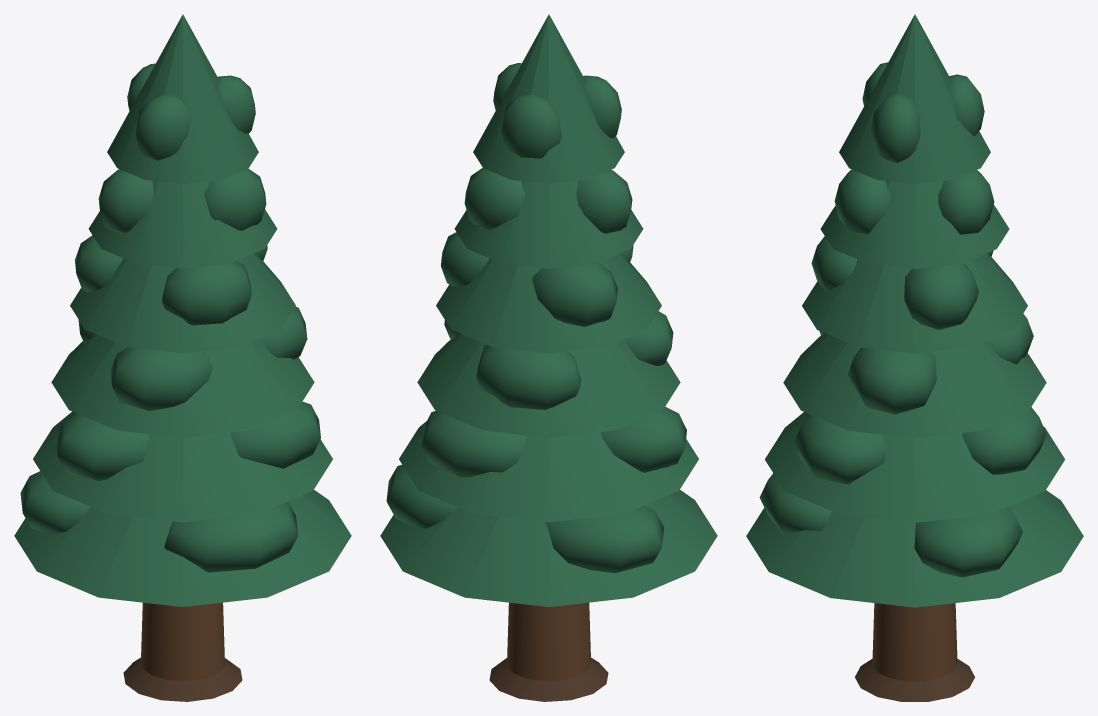
Rendered from pine_l03.glb.
3 views of the same model, side by side, from view 1: azimuth 30°, elevation 25°; view 2: azimuth 150°, elevation 25°; view 3: azimuth 270°, elevation 25° (orthographic).
Visible parts, largest first — view 1: layered_branch_crown, tapered_trunk, pine_l03; view 2: layered_branch_crown, tapered_trunk, pine_l03; view 3: layered_branch_crown, tapered_trunk, pine_l03.
Boxes of the visible parts, x1,y1,x2,y2 form: layered_branch_crown: (14,14,351,606); tapered_trunk: (141,602,224,680); pine_l03: (123,657,242,701); layered_branch_crown: (380,14,717,606); tapered_trunk: (507,602,590,680); pine_l03: (489,657,608,701); layered_branch_crown: (746,14,1083,607); tapered_trunk: (872,603,957,681); pine_l03: (855,658,974,701).
Size of the model in its own units: 2.08 by 4.51 by 2.08.
